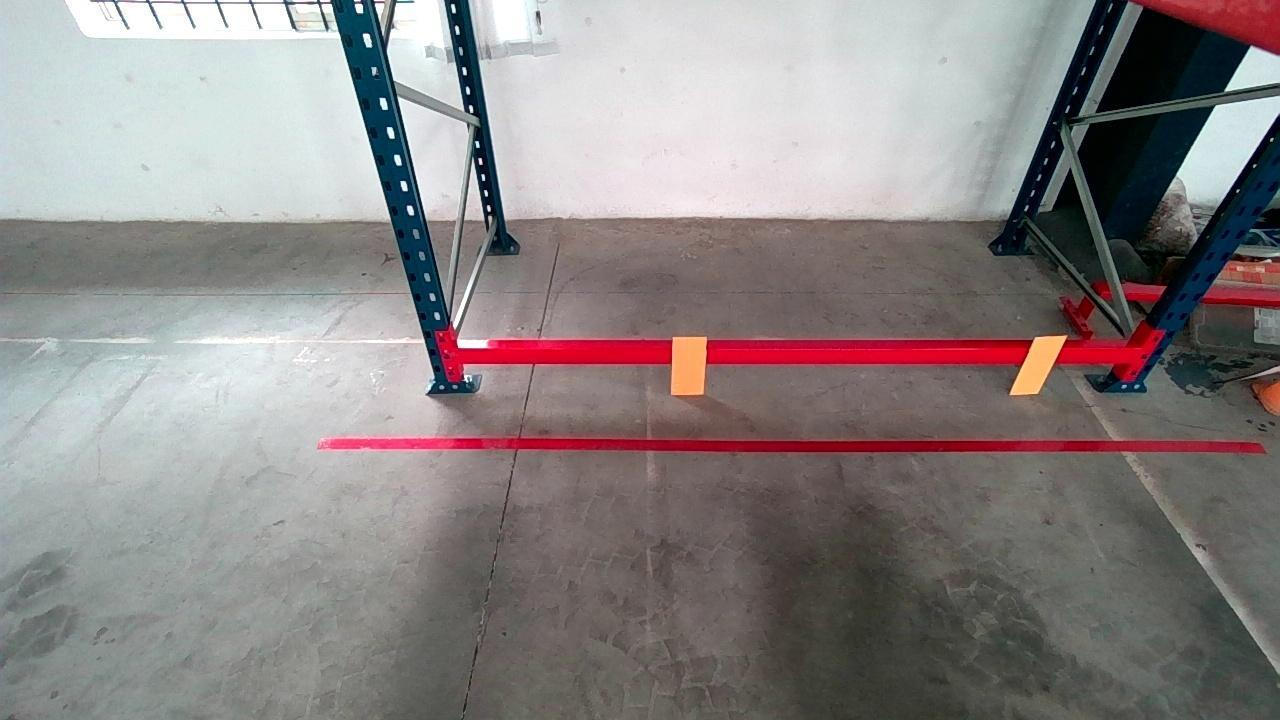h_rack: (454, 348, 1135, 364)
orange_strip: (1009, 335, 1070, 395), (672, 335, 707, 394)
red_line: (316, 439, 1264, 451)
